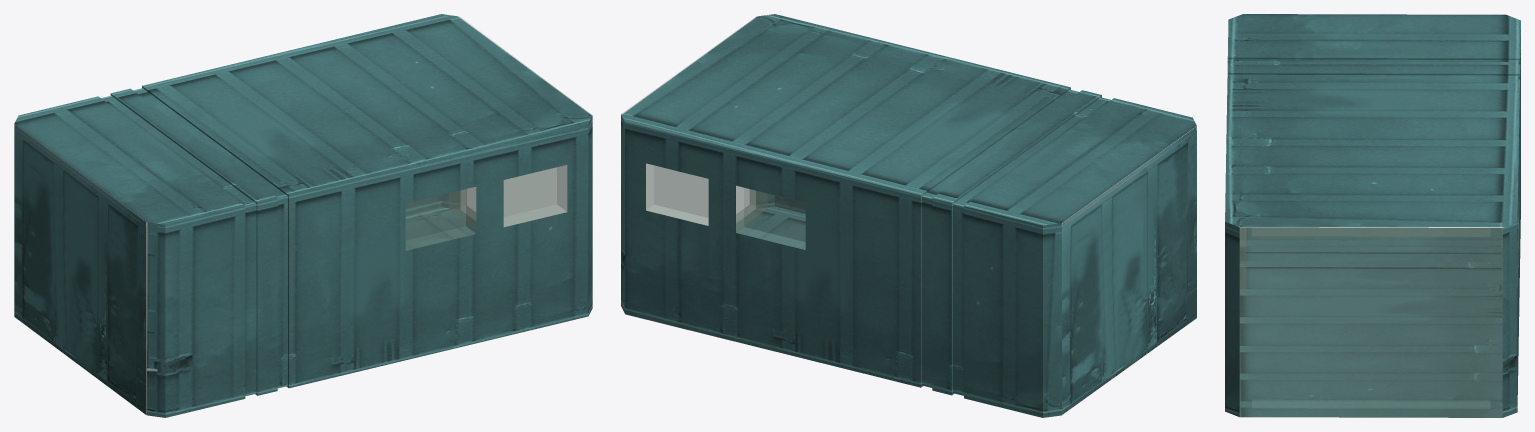
File: Container_2.fbx
3 views of the same model, side by side, from view 1: azimuth 30°, elevation 25°; view 2: azimuth 150°, elevation 25°; view 3: azimuth 270°, elevation 25° (orthographic).
Visible parts, largest first — view 1: pCube6; view 2: pCube6; view 3: pCube6.
Boxes of the visible parts, x1=… form: pCube6: x1=14, y1=14, x2=592, y2=417; pCube6: x1=621, y1=14, x2=1196, y2=417; pCube6: x1=1225, y1=14, x2=1520, y2=417.
Bounding box in the file's own units: 7.66 × 3.17 × 4.48.
2 materials, 1 textured.
